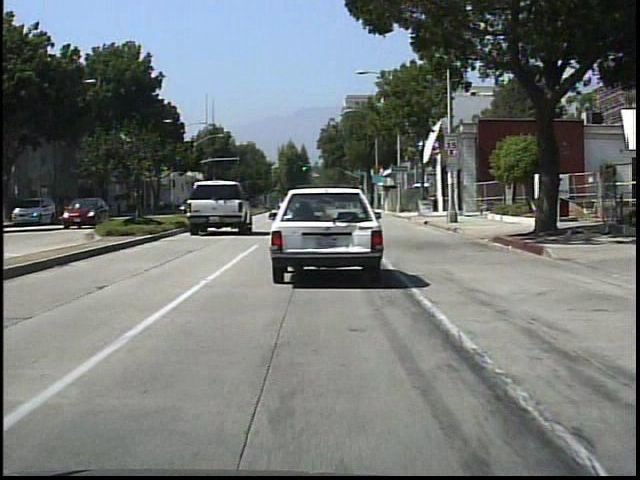person: (109, 194, 126, 221)
